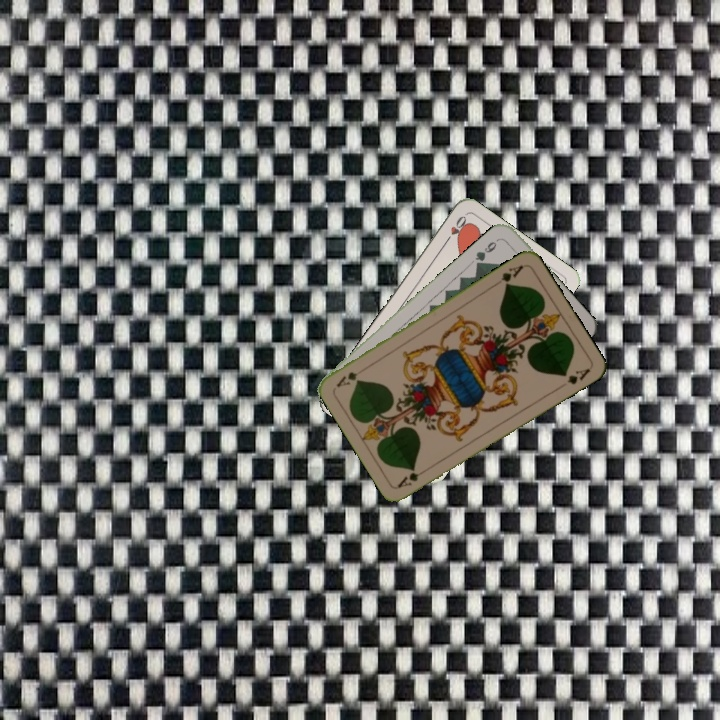G9: (471, 234, 503, 268)
GA: (394, 464, 431, 490), (497, 260, 526, 289)
HO: (440, 212, 469, 247)
